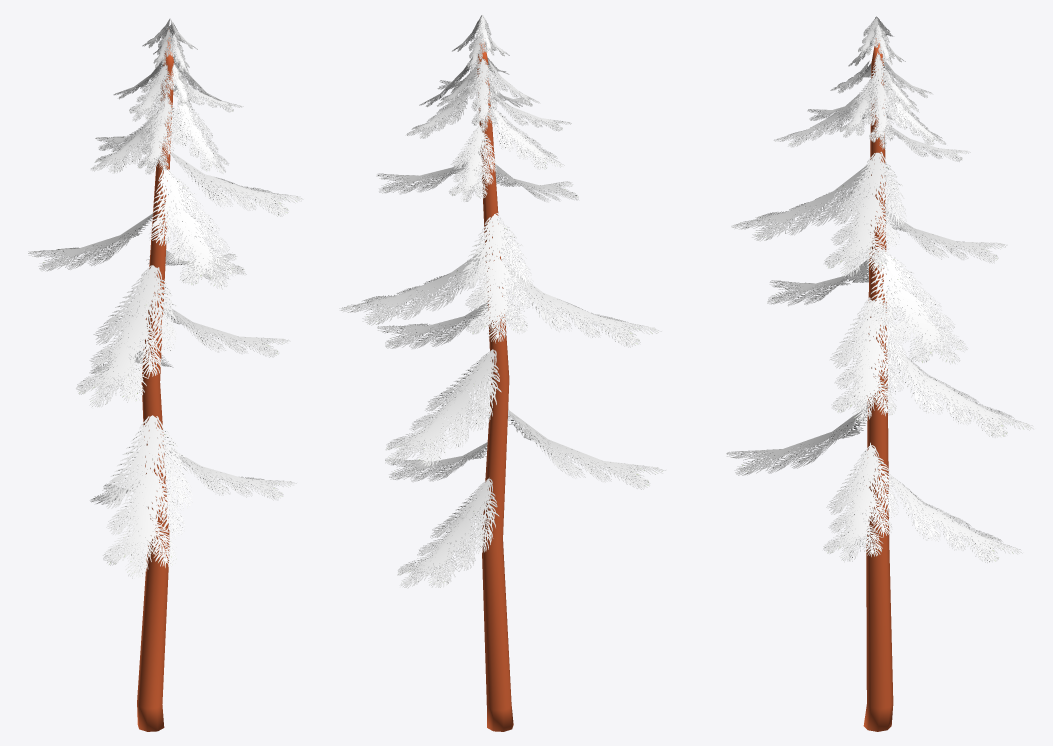
Rendered from TreeDirespectLittle.fbx.
3 views of the same model, side by side, from view 1: azimuth 30°, elevation 25°; view 2: azimuth 150°, elevation 25°; view 3: azimuth 270°, elevation 25° (orthographic). The views are drawn at different scales.
Parts seen in each view (by area): view 1: Plane.001; view 2: Plane.001; view 3: Plane.001.
Boxes of the visible parts, box(x1,y1,x2,y2) form: Plane.001: box(28, 18, 304, 731); Plane.001: box(339, 15, 666, 731); Plane.001: box(726, 16, 1033, 731).
Size of the model in its own units: 111 by 280 by 118.
